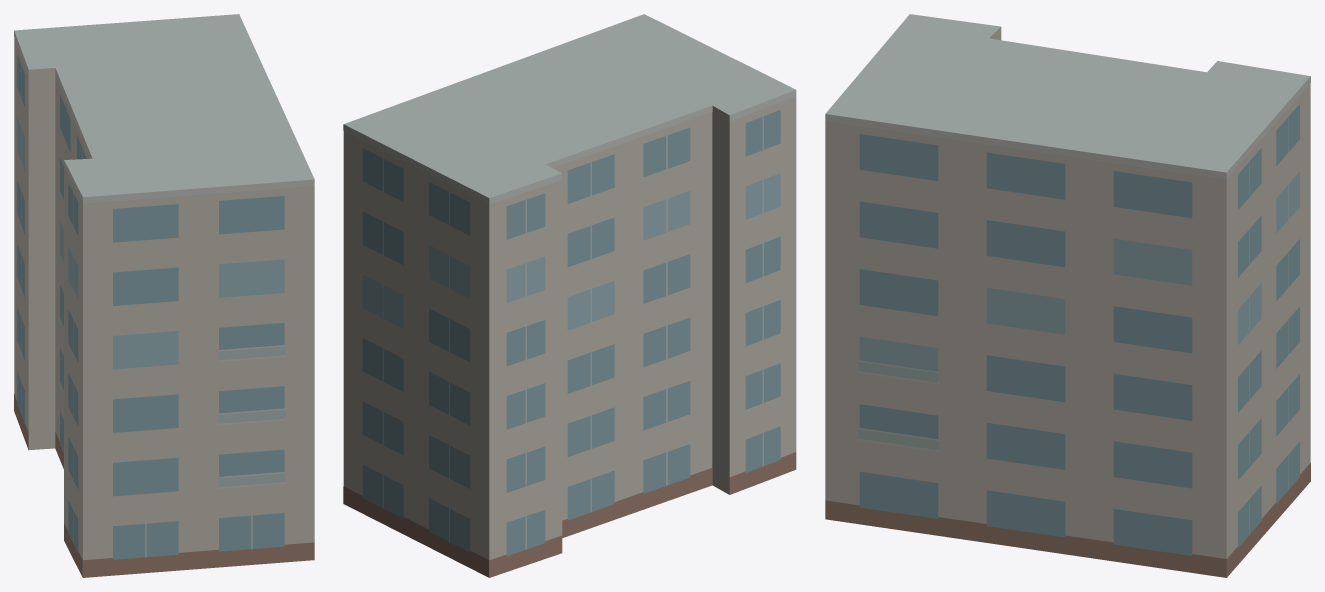
The model's file is survey-upis-32881779.glb.
3 renders of one model, left to right at view 1: azimuth 30°, elevation 25°; view 2: azimuth 150°, elevation 25°; view 3: azimuth 270°, elevation 25°, orthographic. The views are drawn at different scales.
Parts seen in each view (by area): view 1: survey-upis-32881779.tmp; view 2: survey-upis-32881779.tmp; view 3: survey-upis-32881779.tmp.
Part boxes in pixels (x1,y1,x2,y2): survey-upis-32881779.tmp: (14, 14, 314, 577); survey-upis-32881779.tmp: (343, 14, 796, 577); survey-upis-32881779.tmp: (825, 14, 1310, 577).
Size of the model in its own units: 12.21 by 14.55 by 15.8.
